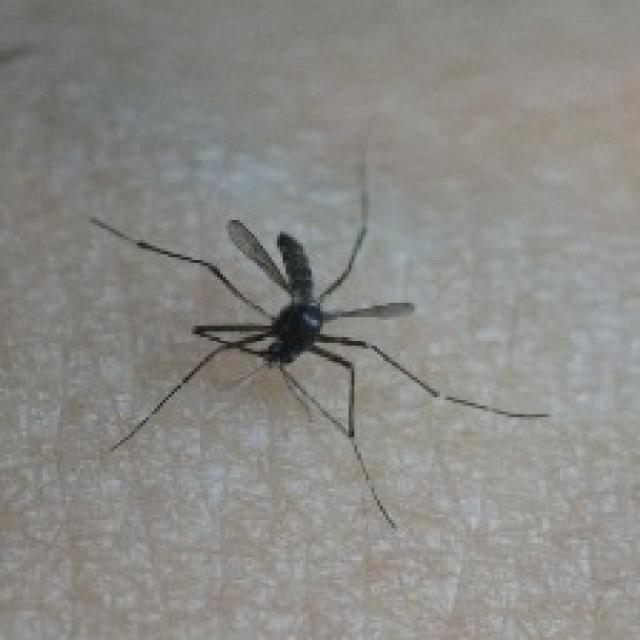aedes: (86, 152, 548, 532)
